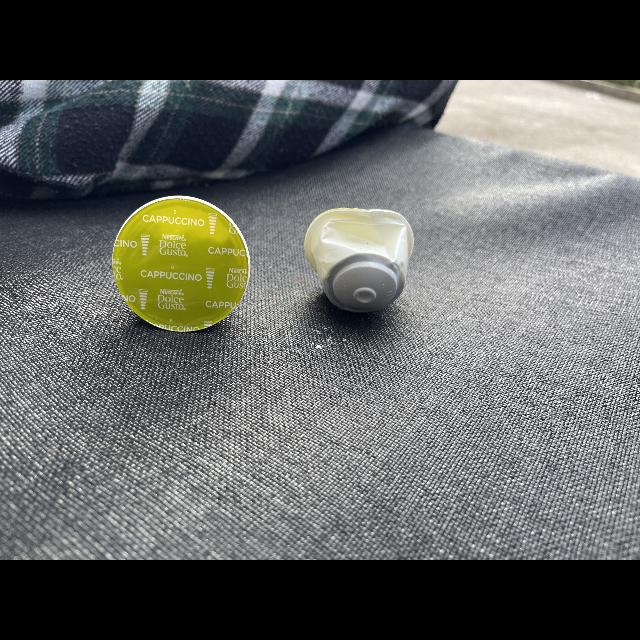damaged_capsule: (297, 198, 437, 324)
intact_capsule: (103, 184, 263, 340)
